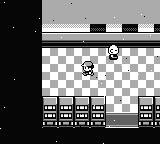main: (81, 62, 94, 75)
no-caminable: (1, 0, 160, 143), (42, 0, 160, 32), (43, 97, 105, 127), (42, 33, 160, 47), (138, 97, 160, 127)
npc: (108, 45, 120, 60)
puerta: (106, 114, 138, 127)
